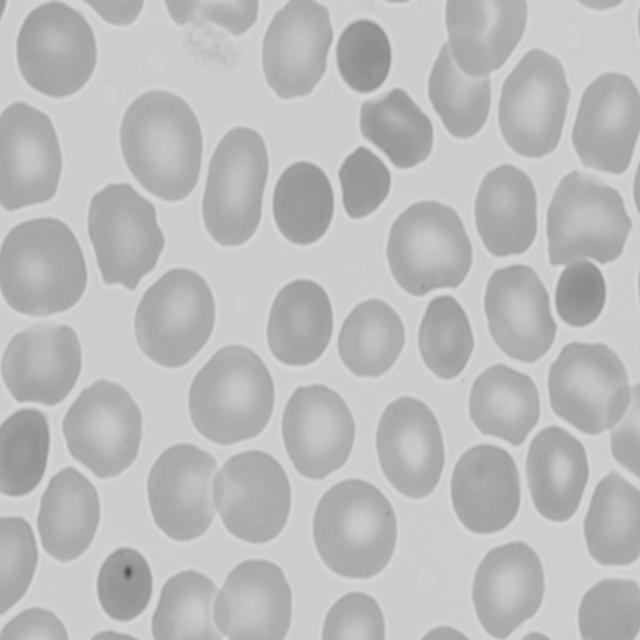RBC: (306, 473, 400, 585), (116, 86, 203, 204), (186, 344, 278, 449), (384, 191, 474, 298), (0, 210, 89, 316), (494, 47, 576, 161), (14, 0, 101, 106), (546, 337, 636, 438), (130, 268, 217, 372), (202, 122, 270, 250), (210, 448, 295, 548), (144, 442, 224, 548), (84, 184, 165, 288), (544, 172, 634, 265), (372, 390, 448, 500), (278, 378, 358, 482), (256, 0, 336, 102), (64, 376, 144, 478), (470, 540, 551, 640), (482, 262, 558, 367), (445, 441, 526, 539), (0, 100, 67, 218), (0, 319, 84, 409), (570, 70, 640, 177), (32, 464, 103, 568), (471, 161, 542, 264), (430, 37, 500, 139), (261, 275, 336, 369), (215, 552, 295, 640), (520, 426, 590, 524), (441, 0, 530, 77), (464, 361, 544, 445), (357, 91, 437, 173), (332, 298, 407, 381), (580, 473, 640, 574), (413, 292, 479, 382), (147, 568, 225, 640), (0, 402, 55, 500), (0, 510, 40, 624), (571, 575, 640, 640), (336, 146, 392, 218), (318, 590, 388, 640), (0, 606, 73, 640), (75, 0, 154, 28), (393, 622, 488, 640), (76, 627, 159, 640), (631, 120, 640, 230), (494, 630, 570, 640), (633, 0, 640, 72)
Spherocyte: (266, 160, 338, 250), (334, 16, 398, 100), (92, 546, 154, 626), (556, 260, 610, 332)
